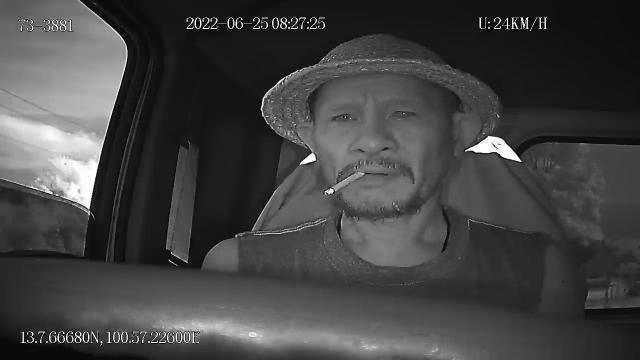SafeDriving: (384, 100, 424, 124), (326, 102, 364, 127)
Smoking: (324, 168, 366, 196)
